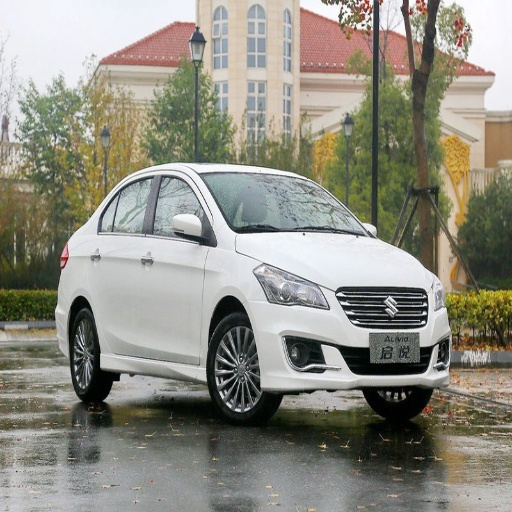back_right_door: (90, 171, 156, 354)
front_bumper: (251, 285, 449, 386)
front_right_door: (141, 171, 212, 362)
front_right_light: (255, 264, 328, 307)
